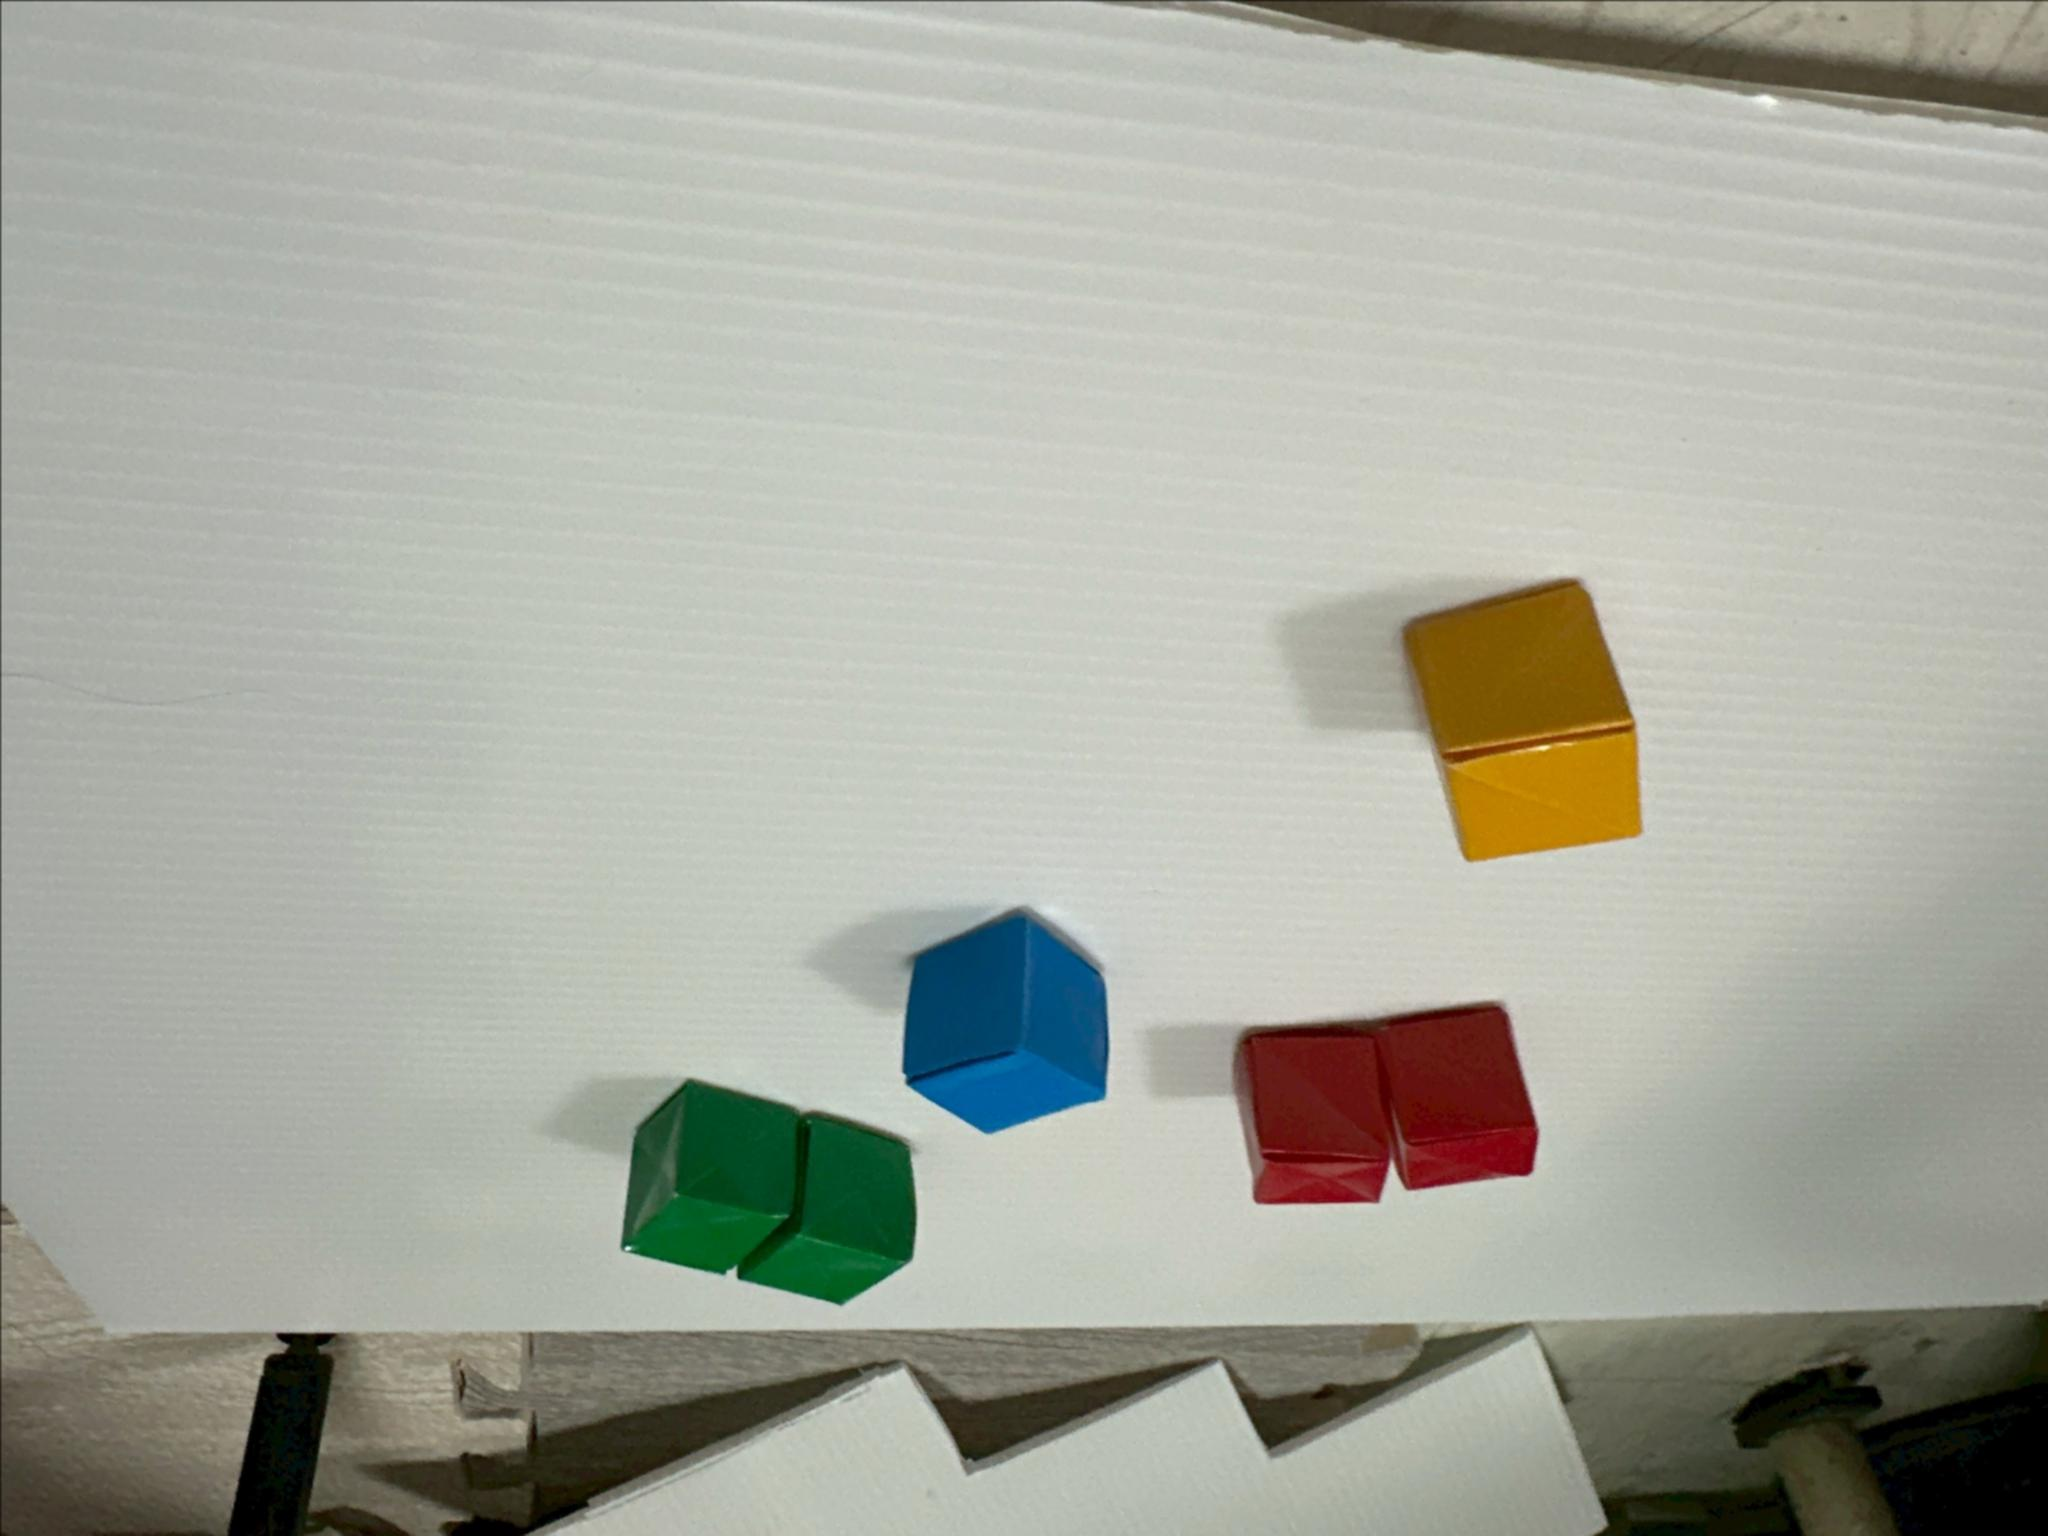cube: (1405, 579, 1642, 860), (903, 910, 1108, 1133), (621, 1081, 801, 1273), (737, 1117, 914, 1304), (1374, 1005, 1538, 1187), (1235, 1028, 1390, 1202)
